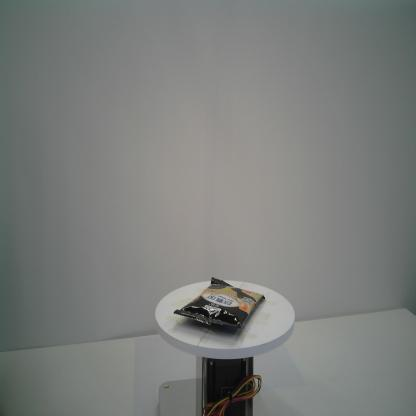Instant Drink: (172, 277, 266, 329)
